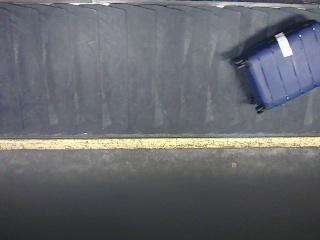Suitcase: (234, 20, 320, 112)
